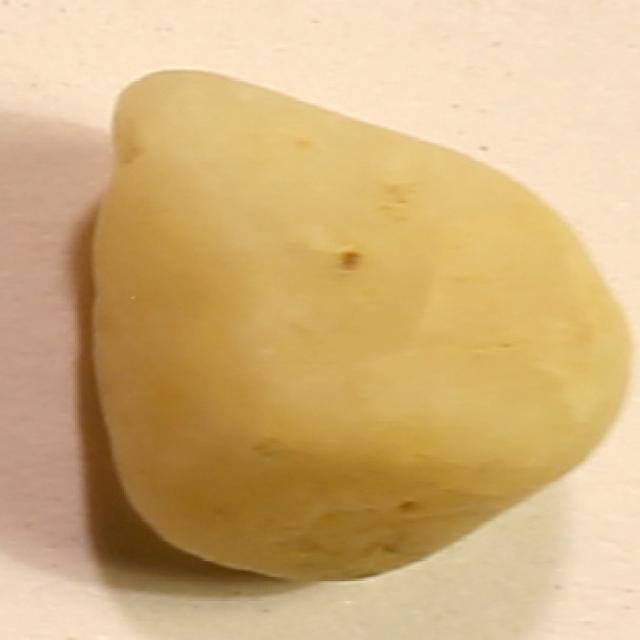stone: (82, 67, 638, 588)
